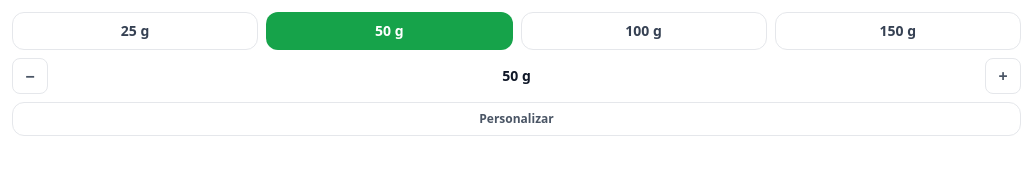
Scenario: CantidadSelector › clickear un botón rápido actualiza el input oculto "cantidad"
This screenshot has width=1036, height=172.
Click the button "100 g" at (644, 31), box [520,12,767,50]
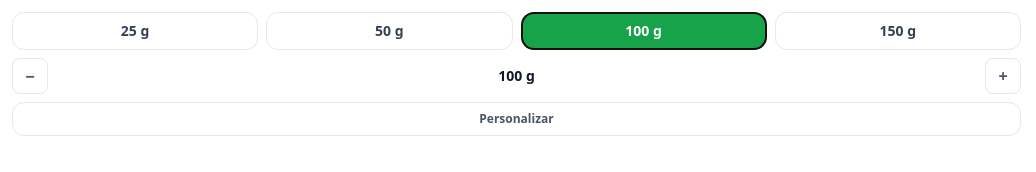
Check: the element showing "100" is shown, box [12,58,1021,94]
